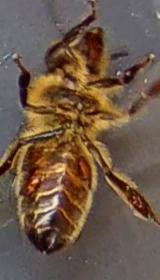varroa_mite: (64, 145, 109, 192), (16, 162, 59, 200)
